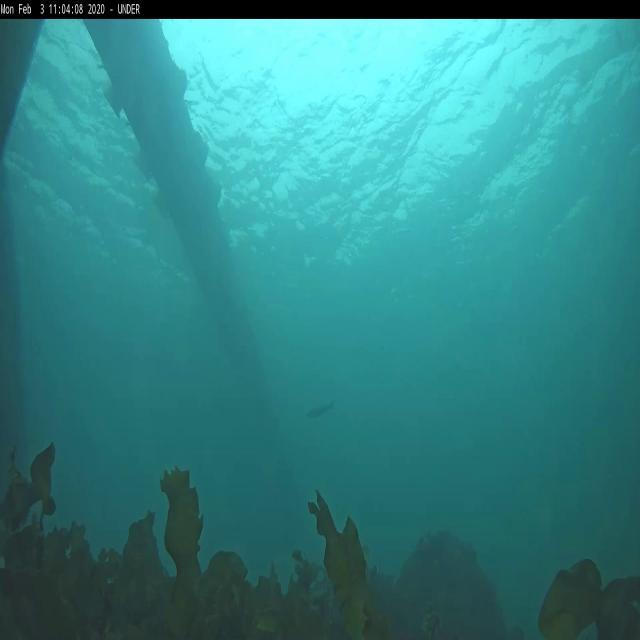fish: (304, 400, 332, 420)
